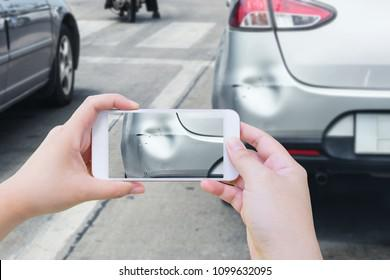rear-bumper-dent: (210, 29, 332, 171)
